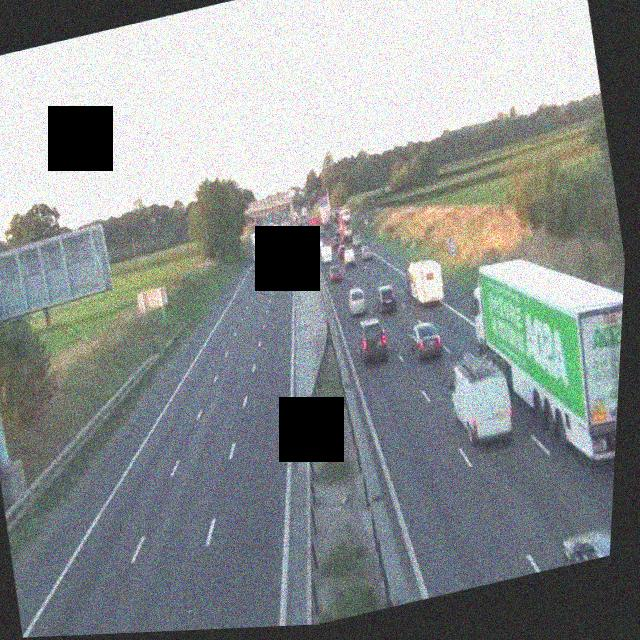car: (559, 516, 612, 566), (404, 317, 446, 362), (355, 318, 393, 367), (346, 286, 371, 318), (375, 282, 399, 314), (328, 263, 345, 284), (358, 244, 374, 262)
truck: (457, 235, 626, 485), (441, 342, 521, 448), (406, 255, 446, 309), (248, 229, 268, 264), (303, 208, 320, 233), (318, 241, 335, 264), (340, 245, 357, 267)
